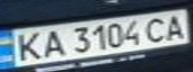0: (106, 20, 127, 48)
1: (87, 21, 109, 51)
3: (66, 24, 93, 54)
4: (121, 17, 148, 46)
A: (36, 27, 69, 58), (160, 11, 190, 40)
C: (139, 15, 172, 44)
K: (6, 29, 48, 62)
